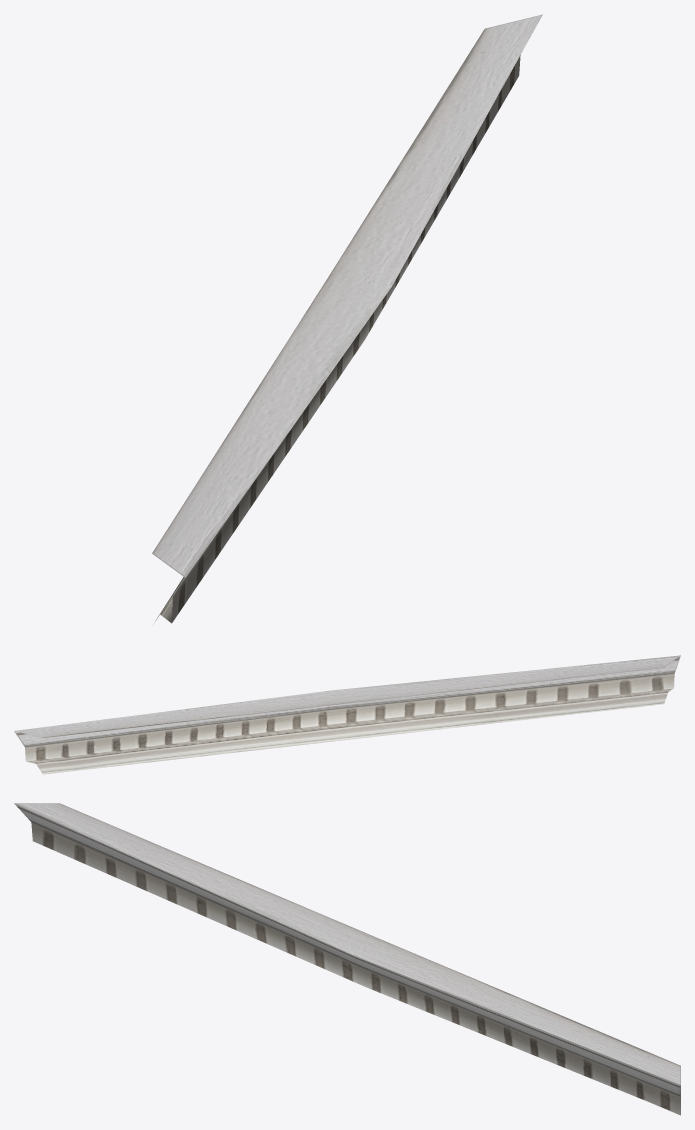
File: WallFloorlineDiag2C.fbx
3 renders of one model, top to bottom at view 1: azimuth 30°, elevation 25°; view 2: azimuth 150°, elevation 25°; view 3: azimuth 270°, elevation 25°, orthographic. The views are drawn at different scales.
Visible parts, largest first — view 1: WallFloorlineDiag2C; view 2: WallFloorlineDiag2C; view 3: WallFloorlineDiag2C.
Part boxes in pixels (x1,y1,x2,y2): WallFloorlineDiag2C: (152, 14, 542, 623); WallFloorlineDiag2C: (14, 655, 680, 774); WallFloorlineDiag2C: (14, 803, 680, 1115).
Size of the model in its own units: 242 by 19.93 by 242.
